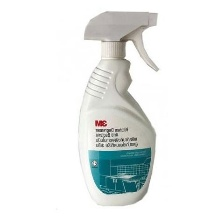cleaning_solution: (74, 6, 163, 210)
